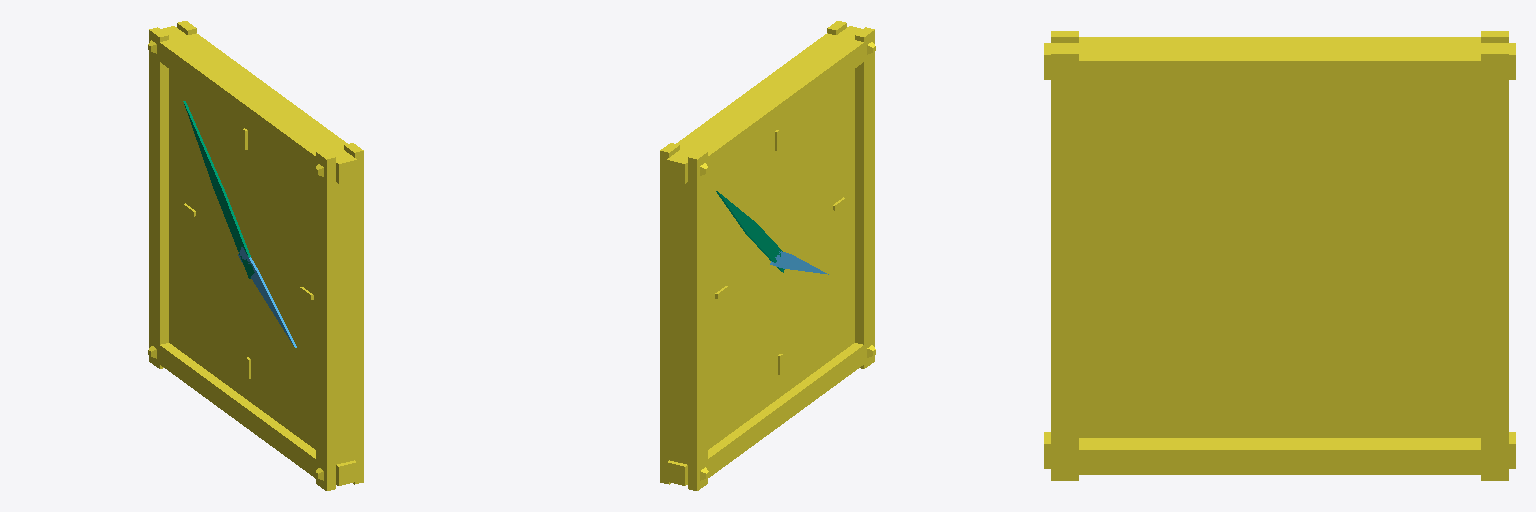
URDF robot description (partnet_ee6489d2d306ca11f04a4560b57187d9):
<?xml version="1.0" ?>
<robot name="partnet_ee6489d2d306ca11f04a4560b57187d9">
	<link name="base"/>
	<link name="link_0">
		<visual name="hand-4">
			<origin xyz="0.007547683466729571 -0.002407117728832716 -0.04275000000000029"/>
			<geometry>
				<mesh filename="textured_objs/original-11.obj"/>
			</geometry>
		</visual>
		<collision>
			<origin xyz="0.007547683466729571 -0.002407117728832716 -0.04275000000000029"/>
			<geometry>
				<mesh filename="textured_objs/original-11.obj"/>
			</geometry>
		</collision>
	</link>
	<joint name="joint_0" type="continuous">
		<origin xyz="-0.007547683466729571 0.002407117728832716 0.04275000000000029"/>
		<axis xyz="0 0 1"/>
		<child link="link_0"/>
		<parent link="link_2"/>
	</joint>
	<link name="link_1">
		<visual name="hand-5">
			<origin xyz="0.007547683466729571 -0.002407117728832716 -0.04275000000000029"/>
			<geometry>
				<mesh filename="textured_objs/original-10.obj"/>
			</geometry>
		</visual>
		<collision>
			<origin xyz="0.007547683466729571 -0.002407117728832716 -0.04275000000000029"/>
			<geometry>
				<mesh filename="textured_objs/original-10.obj"/>
			</geometry>
		</collision>
	</link>
	<joint name="joint_1" type="continuous">
		<origin xyz="-0.007547683466729571 0.002407117728832716 0.04275000000000029"/>
		<axis xyz="0 0 1"/>
		<child link="link_1"/>
		<parent link="link_2"/>
	</joint>
	<link name="link_2">
		<visual name="frame-3">
			<origin xyz="0 0 0"/>
			<geometry>
				<mesh filename="textured_objs/original-3.obj"/>
			</geometry>
		</visual>
		<visual name="frame-3">
			<origin xyz="0 0 0"/>
			<geometry>
				<mesh filename="textured_objs/original-8.obj"/>
			</geometry>
		</visual>
		<visual name="frame-3">
			<origin xyz="0 0 0"/>
			<geometry>
				<mesh filename="textured_objs/original-2.obj"/>
			</geometry>
		</visual>
		<visual name="frame-3">
			<origin xyz="0 0 0"/>
			<geometry>
				<mesh filename="textured_objs/original-6.obj"/>
			</geometry>
		</visual>
		<visual name="frame-3">
			<origin xyz="0 0 0"/>
			<geometry>
				<mesh filename="textured_objs/original-7.obj"/>
			</geometry>
		</visual>
		<visual name="frame-3">
			<origin xyz="0 0 0"/>
			<geometry>
				<mesh filename="textured_objs/original-1.obj"/>
			</geometry>
		</visual>
		<visual name="frame-3">
			<origin xyz="0 0 0"/>
			<geometry>
				<mesh filename="textured_objs/original-4.obj"/>
			</geometry>
		</visual>
		<visual name="frame-3">
			<origin xyz="0 0 0"/>
			<geometry>
				<mesh filename="textured_objs/original-5.obj"/>
			</geometry>
		</visual>
		<visual name="surface-6">
			<origin xyz="0 0 0"/>
			<geometry>
				<mesh filename="textured_objs/original-9.obj"/>
			</geometry>
		</visual>
		<visual name="surface-6">
			<origin xyz="0 0 0"/>
			<geometry>
				<mesh filename="textured_objs/original-14.obj"/>
			</geometry>
		</visual>
		<visual name="surface-6">
			<origin xyz="0 0 0"/>
			<geometry>
				<mesh filename="textured_objs/original-12.obj"/>
			</geometry>
		</visual>
		<visual name="surface-6">
			<origin xyz="0 0 0"/>
			<geometry>
				<mesh filename="textured_objs/original-13.obj"/>
			</geometry>
		</visual>
		<visual name="surface-6">
			<origin xyz="0 0 0"/>
			<geometry>
				<mesh filename="textured_objs/original-15.obj"/>
			</geometry>
		</visual>
		<collision>
			<origin xyz="0 0 0"/>
			<geometry>
				<mesh filename="textured_objs/original-3.obj"/>
			</geometry>
		</collision>
		<collision>
			<origin xyz="0 0 0"/>
			<geometry>
				<mesh filename="textured_objs/original-8.obj"/>
			</geometry>
		</collision>
		<collision>
			<origin xyz="0 0 0"/>
			<geometry>
				<mesh filename="textured_objs/original-2.obj"/>
			</geometry>
		</collision>
		<collision>
			<origin xyz="0 0 0"/>
			<geometry>
				<mesh filename="textured_objs/original-6.obj"/>
			</geometry>
		</collision>
		<collision>
			<origin xyz="0 0 0"/>
			<geometry>
				<mesh filename="textured_objs/original-7.obj"/>
			</geometry>
		</collision>
		<collision>
			<origin xyz="0 0 0"/>
			<geometry>
				<mesh filename="textured_objs/original-1.obj"/>
			</geometry>
		</collision>
		<collision>
			<origin xyz="0 0 0"/>
			<geometry>
				<mesh filename="textured_objs/original-4.obj"/>
			</geometry>
		</collision>
		<collision>
			<origin xyz="0 0 0"/>
			<geometry>
				<mesh filename="textured_objs/original-5.obj"/>
			</geometry>
		</collision>
		<collision>
			<origin xyz="0 0 0"/>
			<geometry>
				<mesh filename="textured_objs/original-9.obj"/>
			</geometry>
		</collision>
		<collision>
			<origin xyz="0 0 0"/>
			<geometry>
				<mesh filename="textured_objs/original-14.obj"/>
			</geometry>
		</collision>
		<collision>
			<origin xyz="0 0 0"/>
			<geometry>
				<mesh filename="textured_objs/original-12.obj"/>
			</geometry>
		</collision>
		<collision>
			<origin xyz="0 0 0"/>
			<geometry>
				<mesh filename="textured_objs/original-13.obj"/>
			</geometry>
		</collision>
		<collision>
			<origin xyz="0 0 0"/>
			<geometry>
				<mesh filename="textured_objs/original-15.obj"/>
			</geometry>
		</collision>
	</link>
	<joint name="joint_2" type="fixed">
		<origin rpy="1.570796326794897 0 -1.570796326794897" xyz="0 0 0"/>
		<child link="link_2"/>
		<parent link="base"/>
	</joint>
</robot>

--- Render facts (derived) ---
Views: 3 orthographic renders of the robot side by side, from view 1: azimuth 30°, elevation 25°; view 2: azimuth 150°, elevation 25°; view 3: azimuth 270°, elevation 25°.
Robot: partnet_ee6489d2d306ca11f04a4560b57187d9 — 4 links, 3 joints (2 continuous, 1 fixed); root link base; default pose: every joint at zero.
Links seen in each view (by area): view 1: link_2, link_1, link_0; view 2: link_2, link_1, link_0; view 3: link_2.
Boxes of the visible links, x1=… form: link_2: x1=148, y1=21, x2=363, y2=490; link_1: x1=183, y1=101, x2=254, y2=278; link_0: x1=238, y1=247, x2=296, y2=347; link_2: x1=660, y1=21, x2=875, y2=490; link_1: x1=716, y1=191, x2=784, y2=272; link_0: x1=770, y1=251, x2=828, y2=274; link_2: x1=1044, y1=31, x2=1515, y2=480.
Bounding box of the posed robot: 0.1853 × 1.4 × 1.4 m (x, y, z).
15 mesh visuals loaded from 15 distinct referenced files (15 OBJ).
